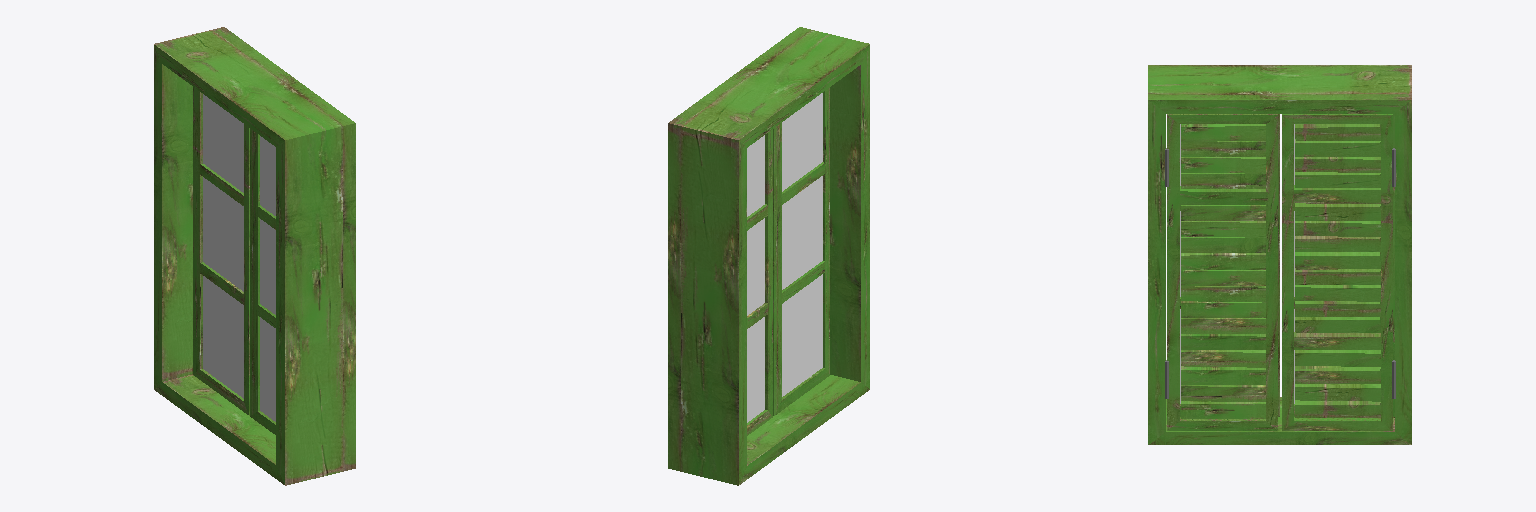
3 views of the same model, side by side, from view 1: azimuth 30°, elevation 25°; view 2: azimuth 150°, elevation 25°; view 3: azimuth 270°, elevation 25° (orthographic).
Parts seen in each view (by area): view 1: Rectangle02, Box02, Rectangle05, Box01, Rectangle01; view 2: Rectangle02, Box01, Rectangle01, Box02, Rectangle05; view 3: Rectangle04, Rectangle03, Rectangle02, Rectangle01.
Boxes of the visible parts, x1=… form: Rectangle02: x1=154, y1=27, x2=355, y2=485; Box02: x1=203, y1=94, x2=243, y2=398; Rectangle05: x1=193, y1=87, x2=249, y2=415; Box01: x1=260, y1=136, x2=275, y2=421; Rectangle01: x1=250, y1=129, x2=275, y2=434; Rectangle02: x1=668, y1=27, x2=869, y2=485; Box01: x1=782, y1=93, x2=822, y2=396; Rectangle01: x1=773, y1=88, x2=829, y2=415; Box02: x1=747, y1=135, x2=764, y2=422; Rectangle05: x1=747, y1=129, x2=772, y2=435; Rectangle04: x1=1282, y1=114, x2=1392, y2=430; Rectangle03: x1=1167, y1=114, x2=1277, y2=430; Rectangle02: x1=1148, y1=65, x2=1411, y2=444; Rectangle01: x1=1180, y1=114, x2=1279, y2=416.
Bounding box in the file's own units: 0.3548 × 1.6 × 1.11.
Materials: 3 (1 with a texture image).